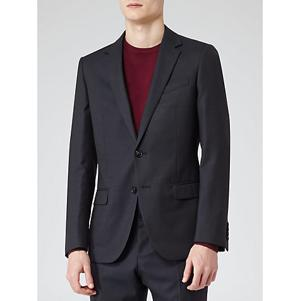F_M_suit jacket: (64, 29, 229, 255)
F_dress pants: (83, 218, 211, 298)
